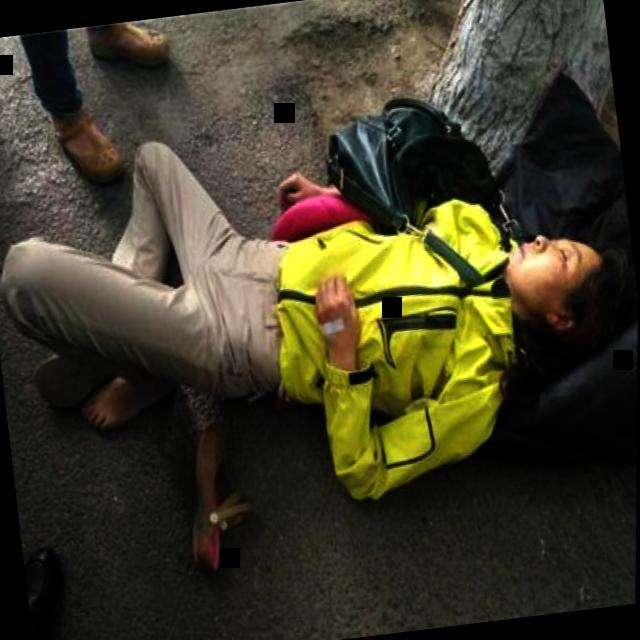Fall-Detected: (0, 20, 640, 624)
